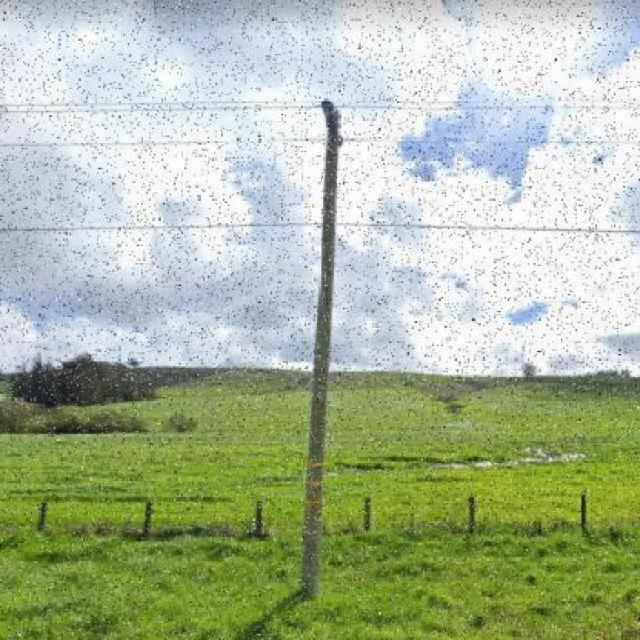pole: (228, 33, 378, 616)
